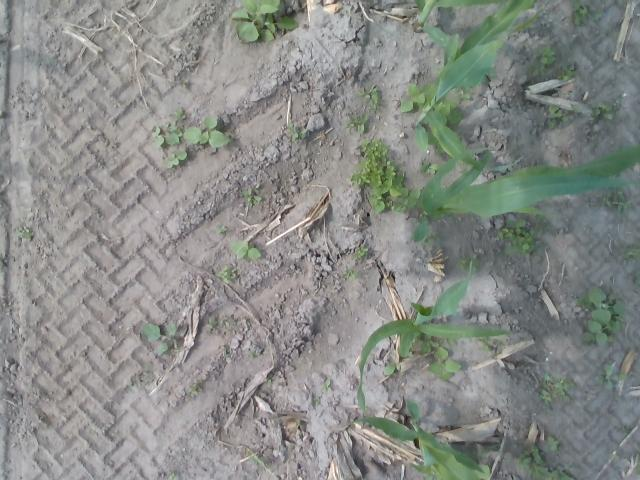Maize: (412, 0, 539, 172), (412, 146, 640, 241), (357, 281, 512, 411), (334, 394, 490, 480), (412, 0, 532, 47)
Weeds: (350, 138, 420, 214), (151, 108, 231, 148), (576, 284, 625, 348), (230, 0, 298, 45), (496, 214, 548, 262), (514, 443, 576, 480), (538, 372, 576, 405), (140, 323, 176, 356), (428, 347, 461, 381), (400, 82, 431, 113), (527, 44, 556, 77), (408, 331, 444, 356), (544, 104, 582, 127), (436, 93, 462, 126), (357, 84, 385, 112), (599, 188, 629, 214), (594, 365, 626, 389), (463, 442, 499, 462), (423, 129, 448, 156), (230, 241, 262, 260), (454, 252, 480, 273), (570, 0, 590, 27), (476, 335, 506, 352), (162, 150, 189, 168), (241, 184, 262, 207), (346, 113, 368, 133), (592, 100, 612, 120), (620, 241, 640, 260), (556, 64, 580, 79), (288, 123, 308, 140), (455, 84, 472, 103), (216, 266, 236, 282), (14, 226, 33, 242), (422, 231, 440, 247), (419, 160, 439, 174), (479, 69, 498, 83), (382, 364, 402, 377), (341, 266, 357, 280), (352, 244, 368, 258), (546, 434, 559, 451), (206, 317, 218, 331), (183, 384, 199, 394), (320, 379, 331, 393), (248, 454, 263, 464), (180, 78, 192, 89), (216, 224, 227, 233), (636, 450, 640, 474), (446, 337, 456, 346), (312, 397, 322, 406), (634, 270, 640, 284), (248, 349, 256, 359), (222, 350, 230, 359), (168, 469, 174, 480), (267, 374, 274, 382)
